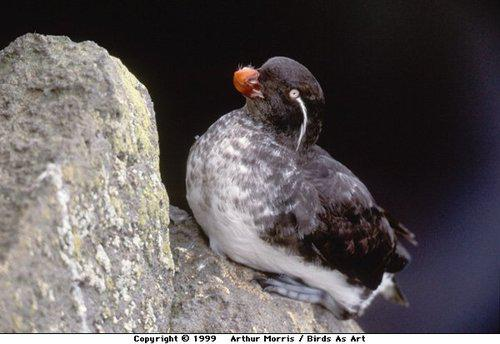007.Parakeet_Auklet: (183, 57, 421, 321)
